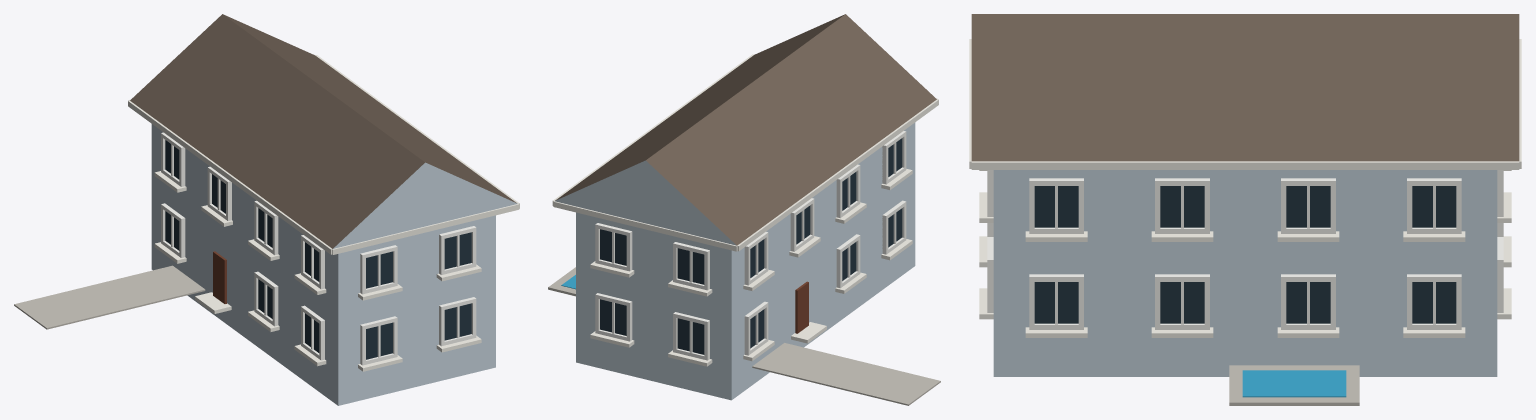
The picture shows the model from 3 angles, left to right: view 1: azimuth 30°, elevation 25°; view 2: azimuth 150°, elevation 25°; view 3: azimuth 270°, elevation 25°; orthographic projection. The views are drawn at different scales.
Parts seen in each view (by area): view 1: b6079; view 2: b6079; view 3: b6079.
Boxes of the visible parts, x1=… form: b6079: x1=14, y1=14, x2=519, y2=405; b6079: x1=548, y1=14, x2=940, y2=405; b6079: x1=969, y1=14, x2=1521, y2=405.
Size of the model in its own units: 6986 by 3884 by 6254.
